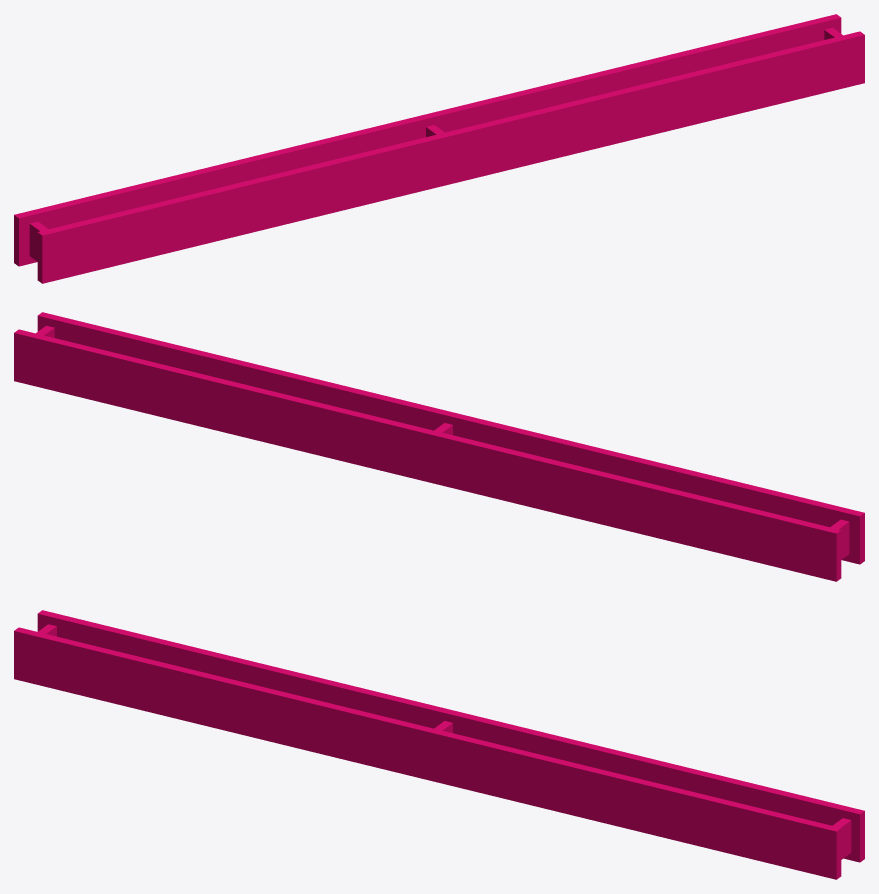
File: Factory_Beam_01_Lod0.fbx
The picture shows the model from 3 angles, top to bottom: view 1: azimuth 30°, elevation 25°; view 2: azimuth 150°, elevation 25°; view 3: azimuth 330°, elevation 25°; orthographic projection.
Visible parts, largest first — view 1: Factory_Beam_01_Lod0; view 2: Factory_Beam_01_Lod0; view 3: Factory_Beam_01_Lod0.
Part boxes in pixels (x1,y1,x2,y2): Factory_Beam_01_Lod0: [14, 14, 864, 283]; Factory_Beam_01_Lod0: [14, 312, 864, 581]; Factory_Beam_01_Lod0: [14, 610, 864, 879].
Size of the model in its own units: 1200 by 67.24 by 71.85.
